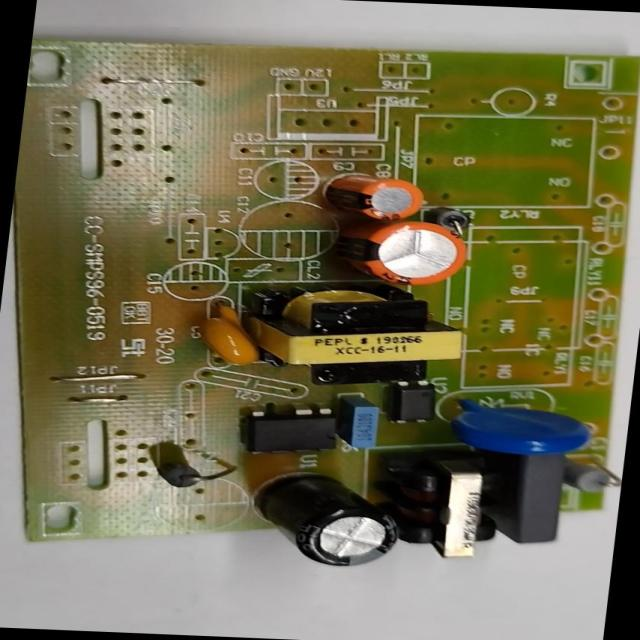Cap1: (343, 221, 467, 285)
Cap2: (328, 172, 427, 220)
Cap3: (253, 473, 402, 570)
MOSFET: (242, 404, 340, 456)
Mov: (454, 400, 594, 456)
Resistor: (563, 459, 623, 493)
Transformer: (244, 283, 468, 386), (393, 458, 507, 559)
